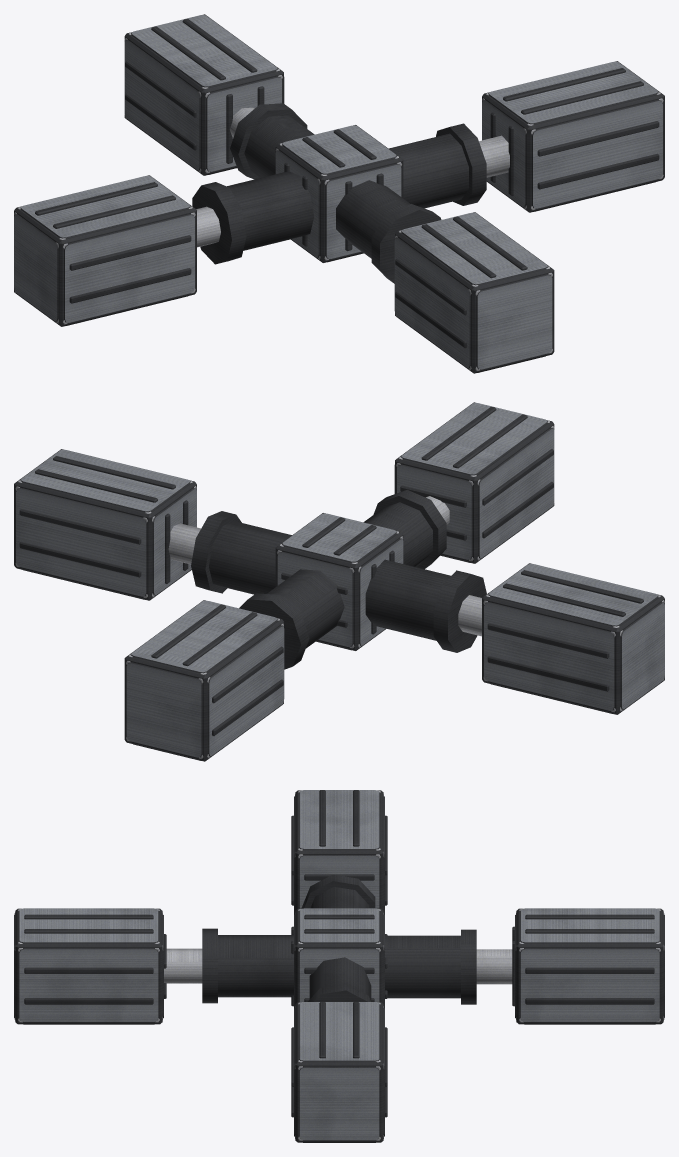
Rendered from R4C_ROD_PLUS.glb.
3 renders of one model, top to bottom at view 1: azimuth 30°, elevation 25°; view 2: azimuth 150°, elevation 25°; view 3: azimuth 270°, elevation 25°, orthographic. The views are drawn at different scales.
Parts seen in each view (by area): view 1: R4C_ROD_PLUS; view 2: R4C_ROD_PLUS; view 3: R4C_ROD_PLUS.
Boxes of the visible parts, box(x1,y1,x2,y2) form: R4C_ROD_PLUS: box(14, 14, 664, 373); R4C_ROD_PLUS: box(14, 402, 664, 761); R4C_ROD_PLUS: box(14, 790, 664, 1142).
Size of the model in its own units: 1.62 by 0.233 by 1.62.
4 materials, 4 textured.
